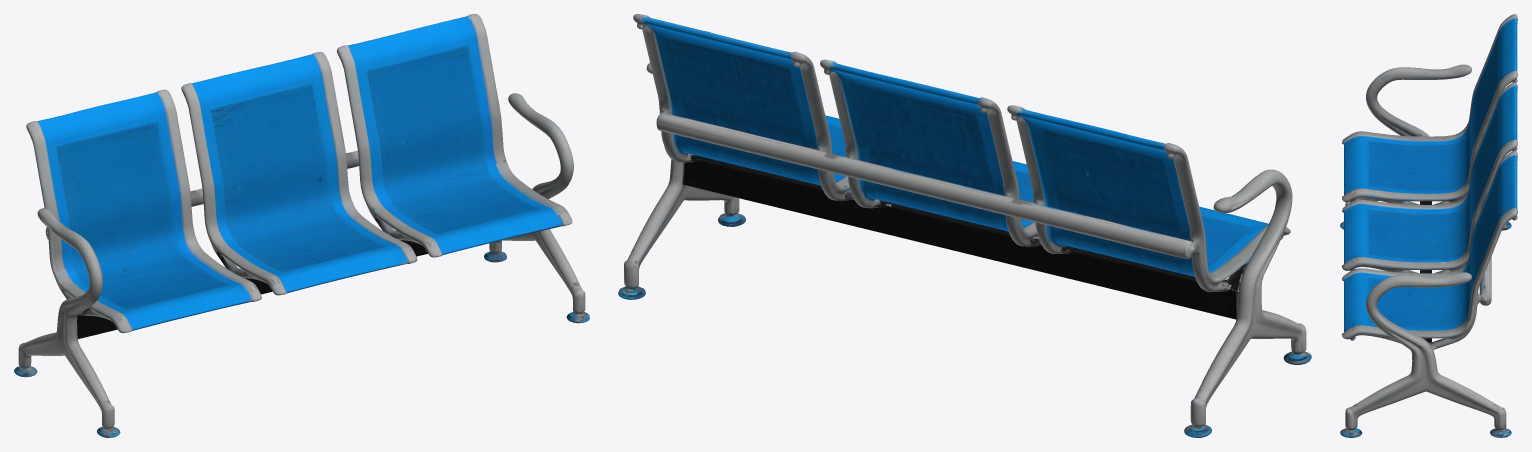
The model's file is waitingchair1.glb.
3 views of the same model, side by side, from view 1: azimuth 30°, elevation 25°; view 2: azimuth 150°, elevation 25°; view 3: azimuth 270°, elevation 25° (orthographic). The views are drawn at different scales.
Parts seen in each view (by area): view 1: node_0; view 2: node_0; view 3: node_0.
Boxes of the visible parts, bbox=[...] form: node_0: bbox=[14, 14, 589, 437]; node_0: bbox=[618, 14, 1311, 437]; node_0: bbox=[1340, 14, 1517, 437].
Bounding box in the file's own units: 1.05 × 0.4973 × 0.3648.
Materials: 1 (1 with a texture image).
